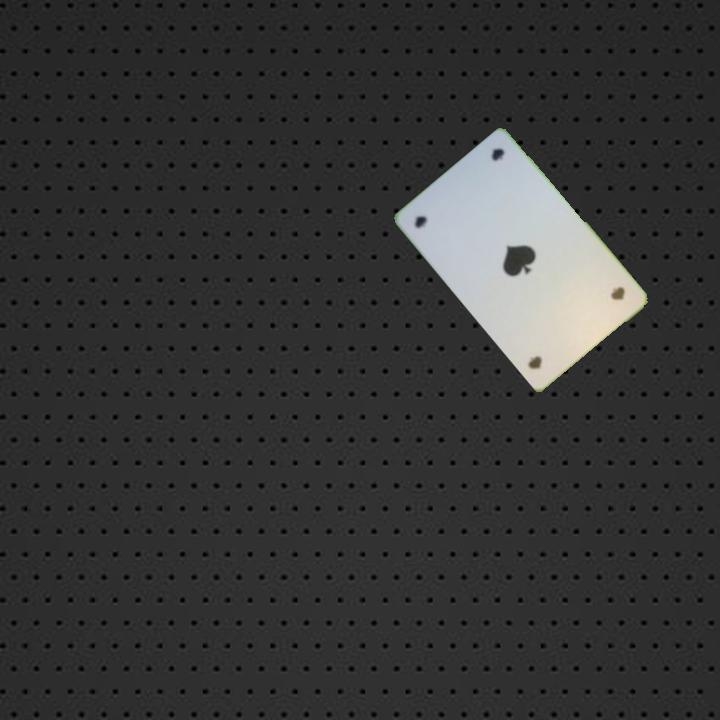s_a.png: (405, 177, 492, 262), (551, 256, 637, 341)
